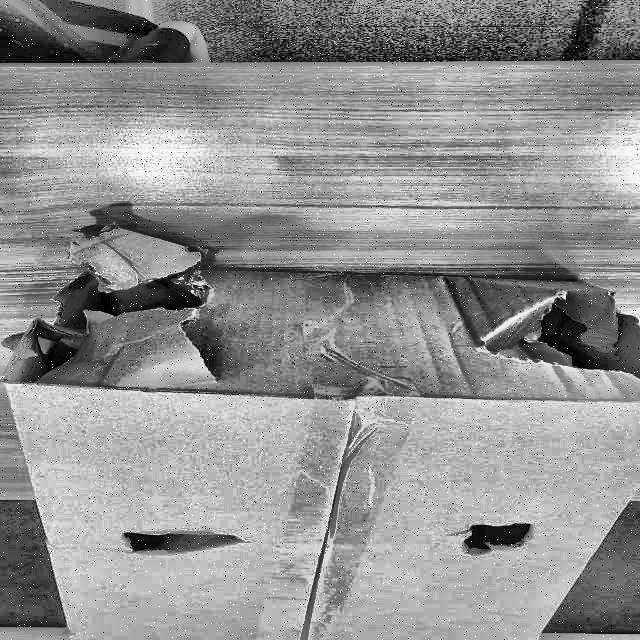box: (0, 238, 638, 640)
hole: (13, 246, 233, 382), (476, 291, 640, 387), (119, 517, 254, 561), (446, 519, 536, 557)
